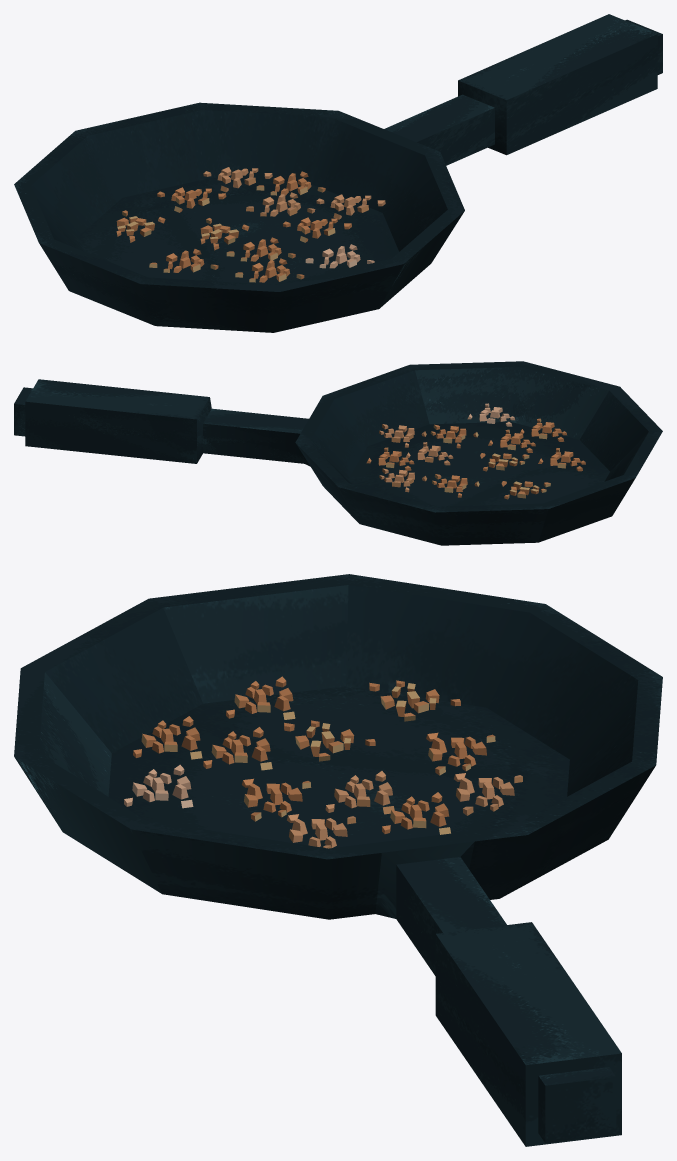
File: Pan_UV.fbx
3 renders of one model, top to bottom at view 1: azimuth 30°, elevation 25°; view 2: azimuth 150°, elevation 25°; view 3: azimuth 270°, elevation 25°, orthographic. The views are drawn at different scales.
Parts seen in each view (by area): view 1: frying_pans, onions; view 2: frying_pans, onions; view 3: frying_pans, onions.
Boxes of the visible parts, box(x1,y1,x2,y2) form: frying_pans: box(14, 14, 662, 332); onions: box(116, 167, 385, 282); frying_pans: box(14, 361, 662, 545); onions: box(366, 403, 585, 499); frying_pans: box(14, 574, 662, 1146); onions: box(124, 676, 522, 848).
Size of the model in its own units: 52.5 by 4 by 28.81.
